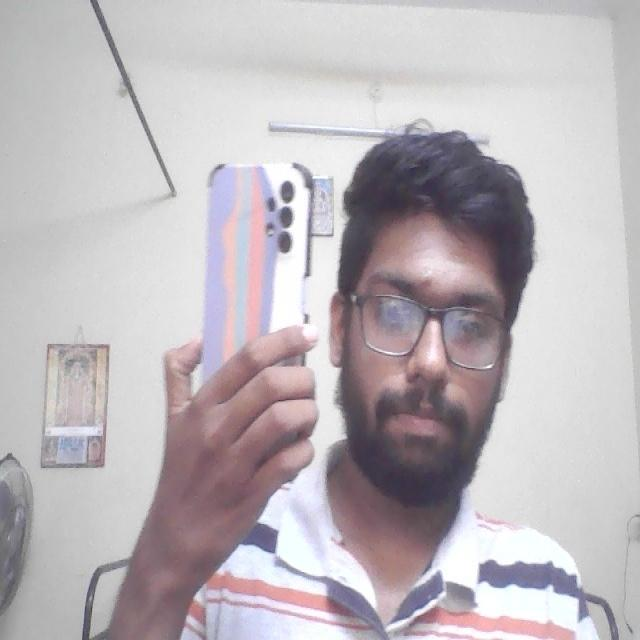Mobile: (192, 150, 314, 352)
